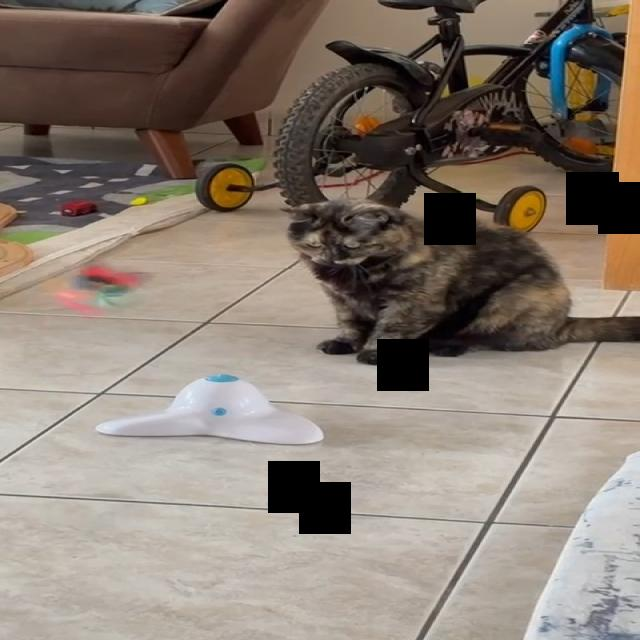authorized: (278, 198, 638, 365)
